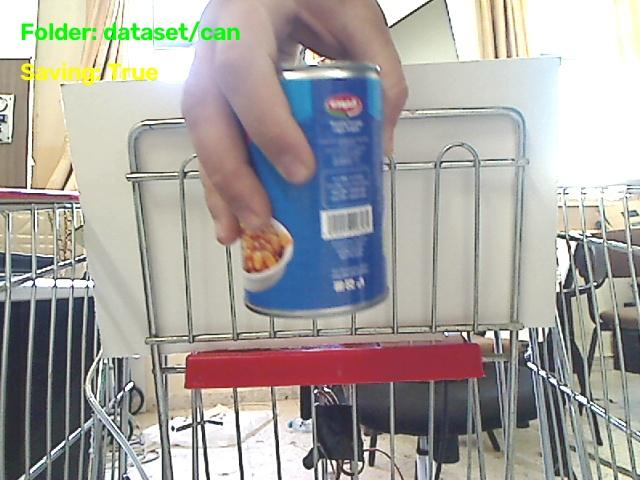can: (242, 63, 387, 317)
